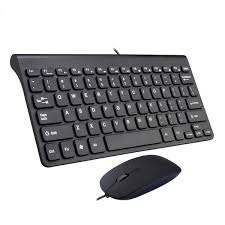keyboard: (7, 45, 218, 174)
mouse: (98, 155, 186, 203)
